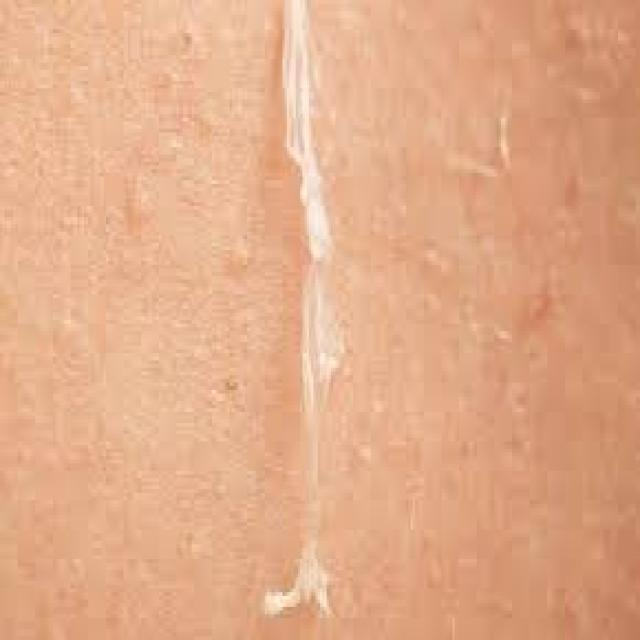dry: (234, 0, 425, 606), (464, 49, 614, 501)
